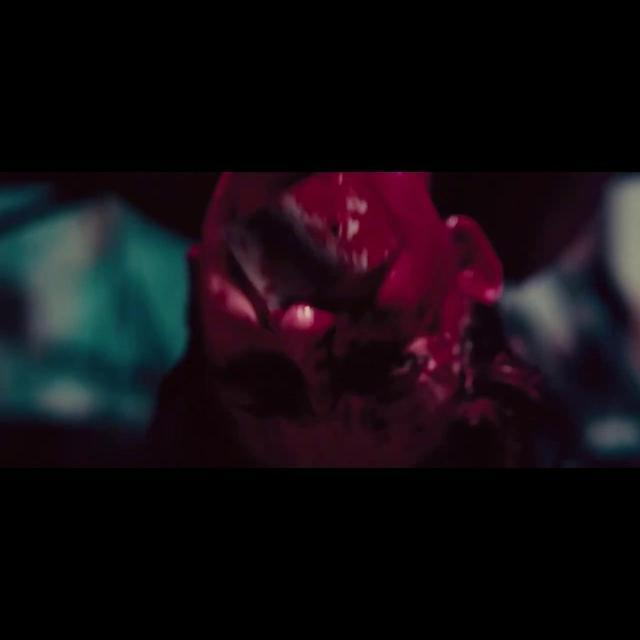blood: (190, 172, 542, 467)
